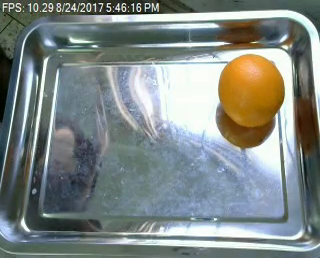Orange: (217, 53, 287, 127)
